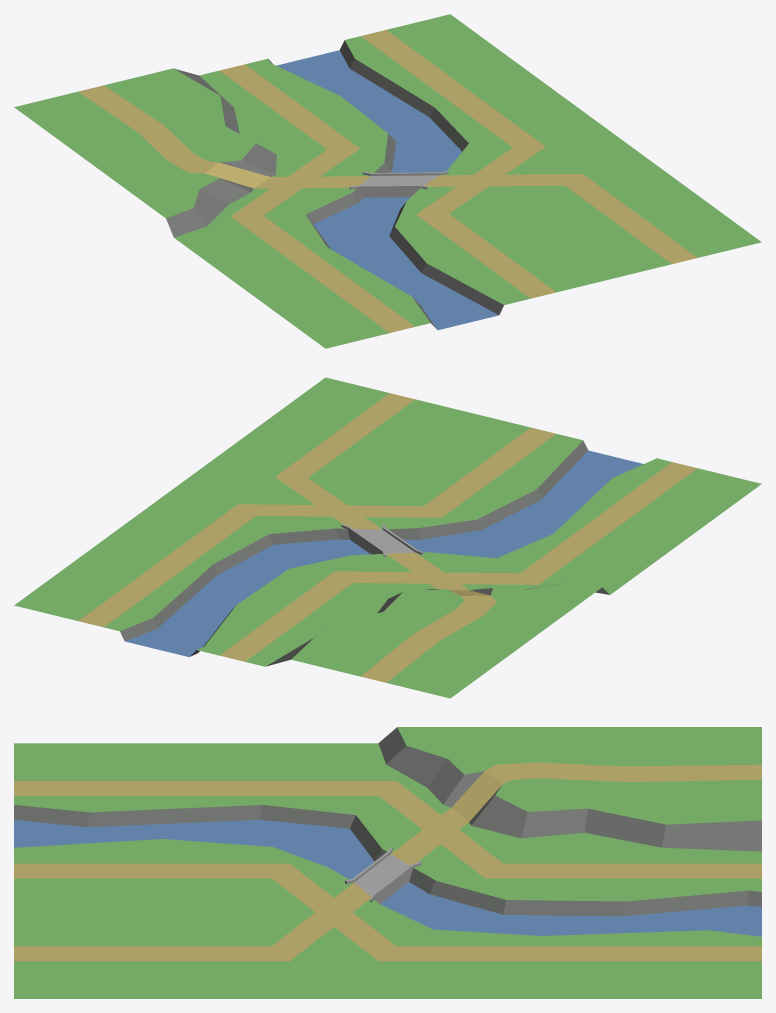
Rendered from env_revolution.fbx.
3 views of the same model, one above another, from view 1: azimuth 30°, elevation 25°; view 2: azimuth 150°, elevation 25°; view 3: azimuth 270°, elevation 25° (orthographic). The views are drawn at different scales.
Parts seen in each view (by area): view 1: polySurface2, pCube27; view 2: polySurface2, pCube27; view 3: polySurface2, pCube27.
Boxes of the visible parts, x1,y1,x2,y2 form: polySurface2: (14,14,761,348); pCube27: (349,171,448,197); polySurface2: (14,377,761,698); pCube27: (341,524,423,557); polySurface2: (14,727,761,998); pCube27: (345,847,421,903).
Bounding box in the file's own units: 34 × 1.67 × 42.05.
